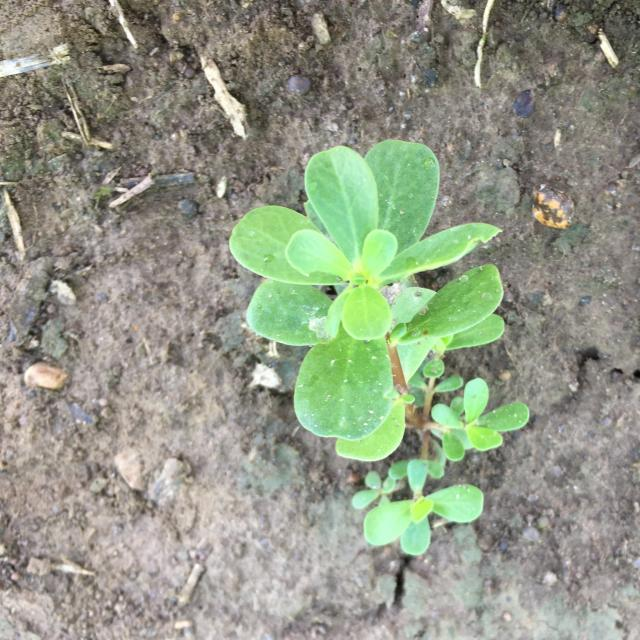Purslane: (229, 139, 530, 556)
